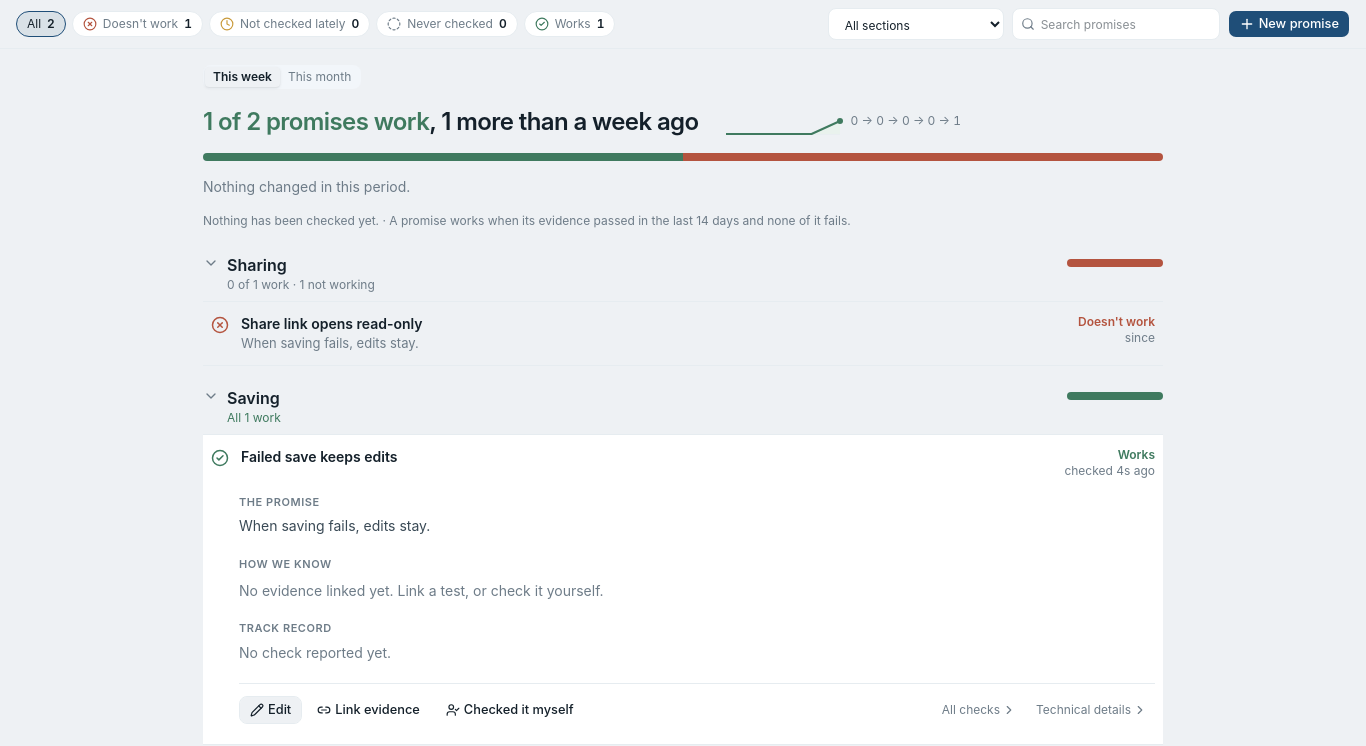
Scenario: TestsView › edits title, text and section together behind one Save
The width and height of the screenshot is (1366, 746).
Click the button "Edit" at {"x": 271, "y": 710}, box [239,696,302,724]
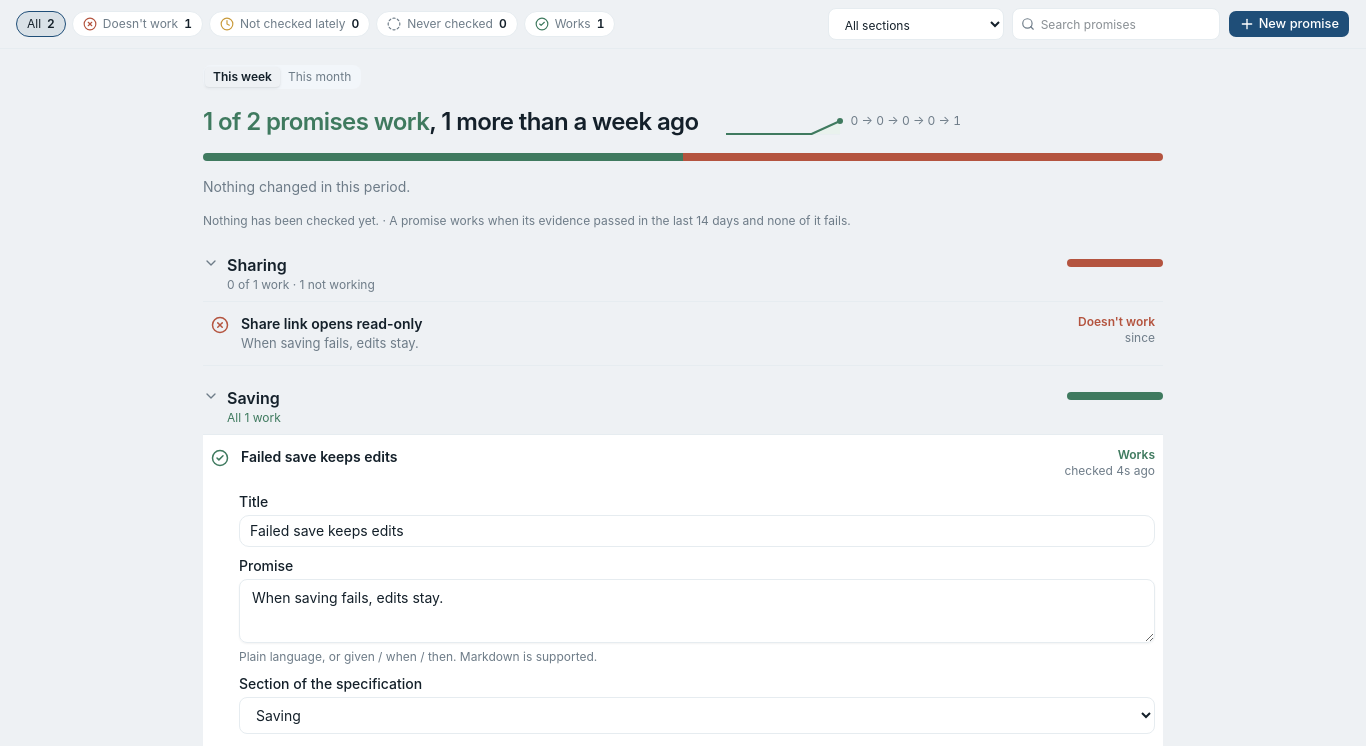
Replace the text in the field labelled "Title" with "Failed save keeps every edit" at {"x": 697, "y": 531}, box [239,515,1155,547]
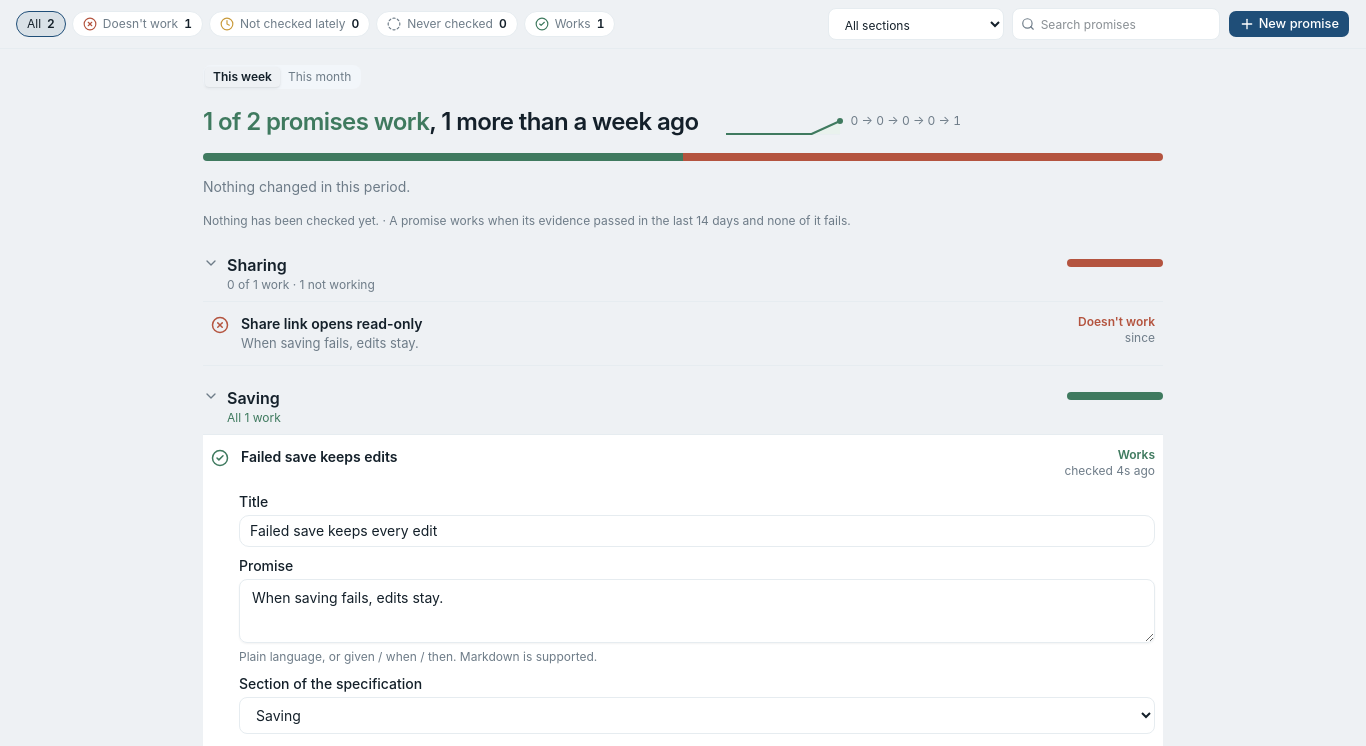
Select "Sharing" in the dropdown labelled "Section of the specification" at {"x": 697, "y": 715}, box [239,697,1155,734]
(page scrolled)
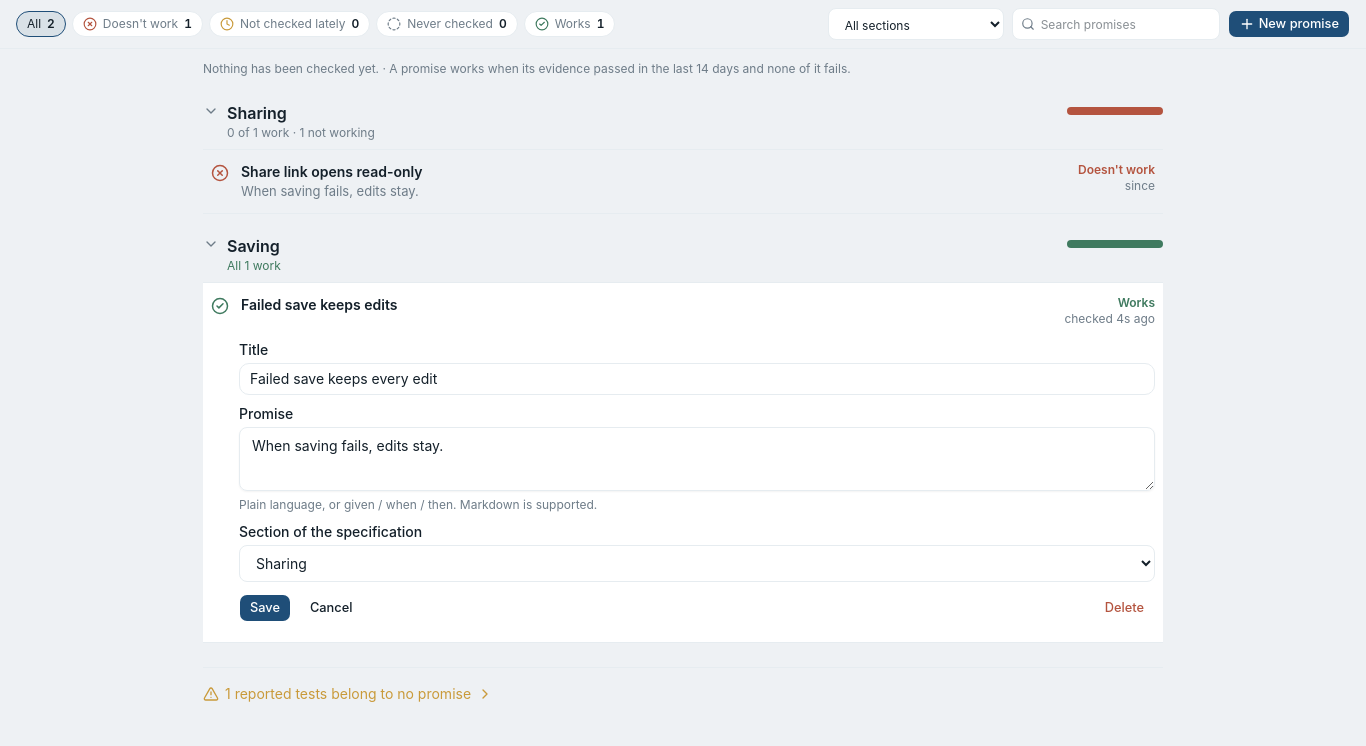
Click the button "Save" at {"x": 265, "y": 608}, box [239,594,291,622]
(page scrolled)
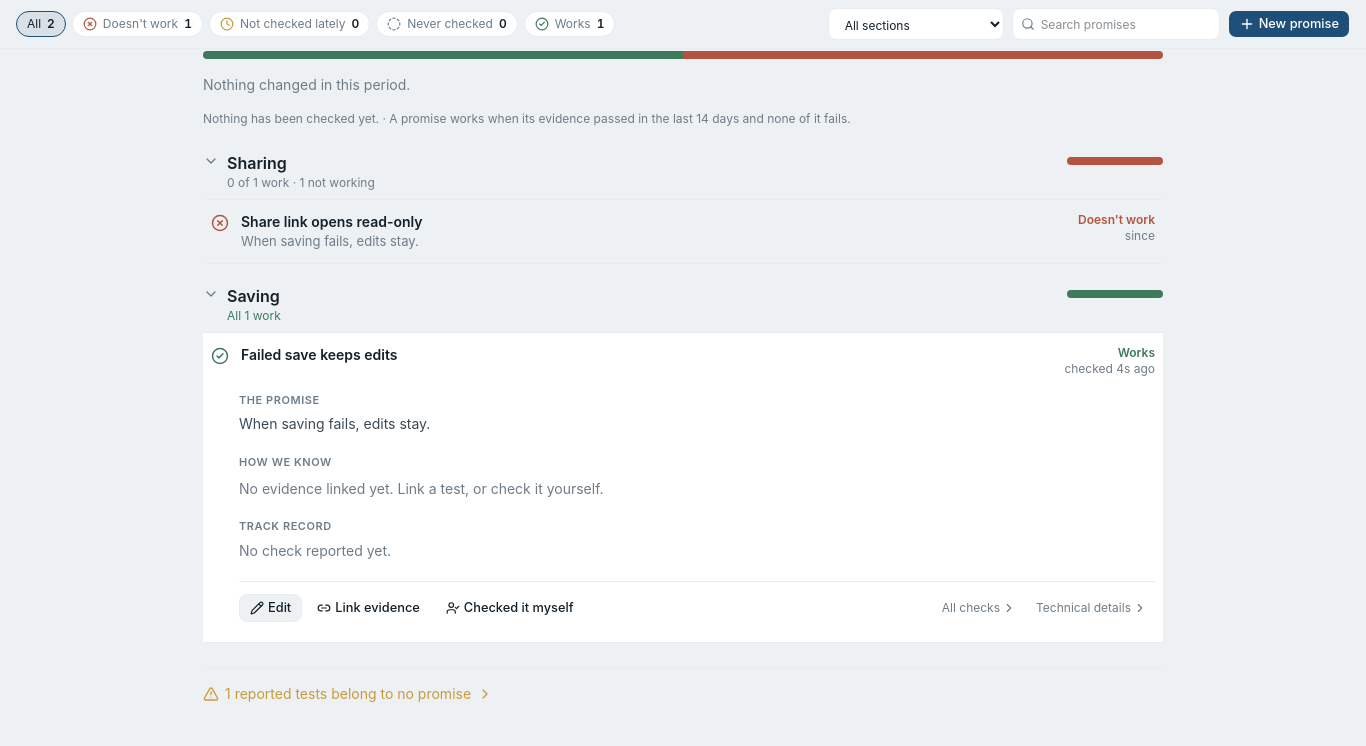
Result: the label labelled "Title" is gone
